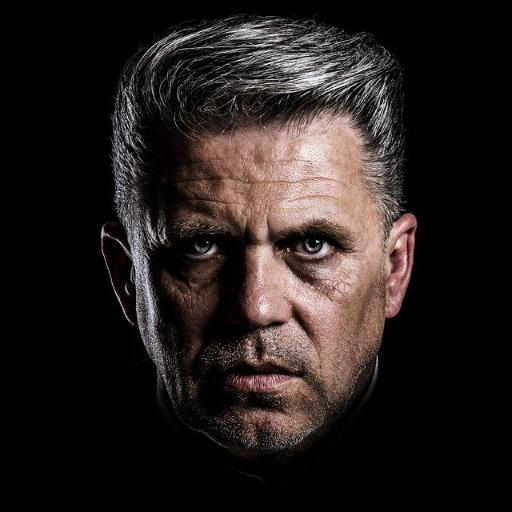left_eye: (284, 231, 346, 261)
left_lip_corner: (286, 365, 309, 389)
right_eye: (180, 233, 226, 263)
right_lip_corner: (213, 366, 244, 384)
